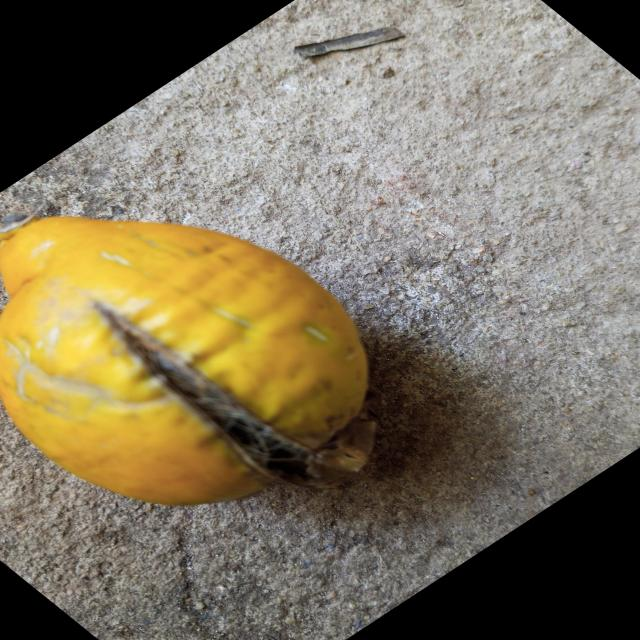damaged: (0, 215, 376, 505)
